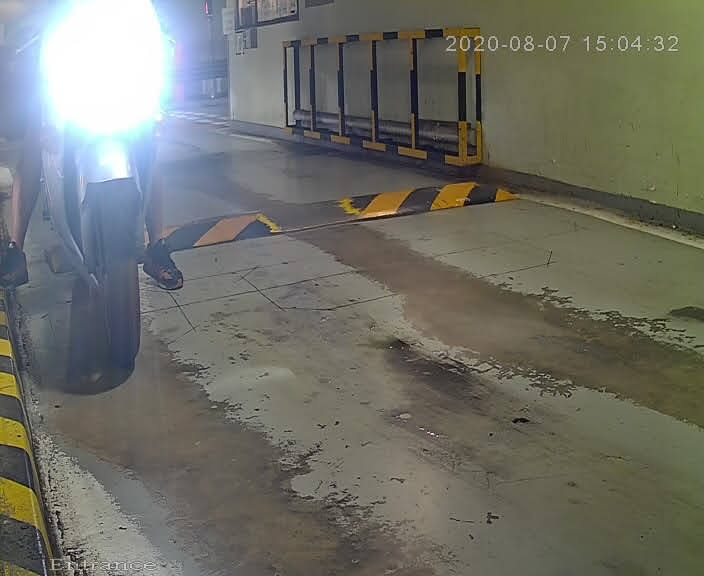motorcycle: (1, 1, 204, 395)
